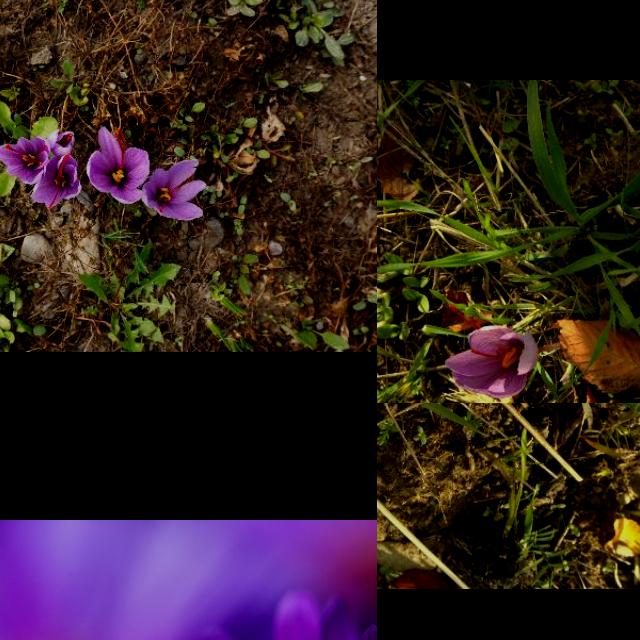flower: (444, 306, 544, 398), (87, 125, 151, 205), (142, 159, 208, 221), (29, 152, 81, 212), (0, 134, 50, 185), (48, 129, 76, 157)
